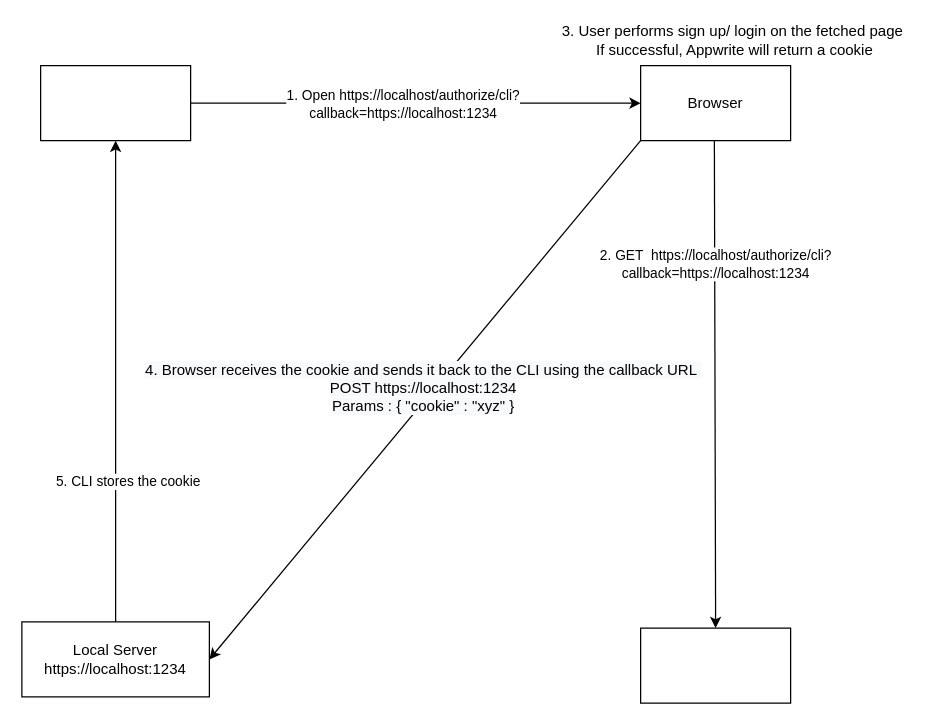
This 938x725 diagram has some shape labels left out. Here are the shapes that lost their labels. From the top down, the box of each, then its label:
(39, 64, 191, 141): CLI
(639, 627, 791, 703): Appwrite Server https://localhost/v1
